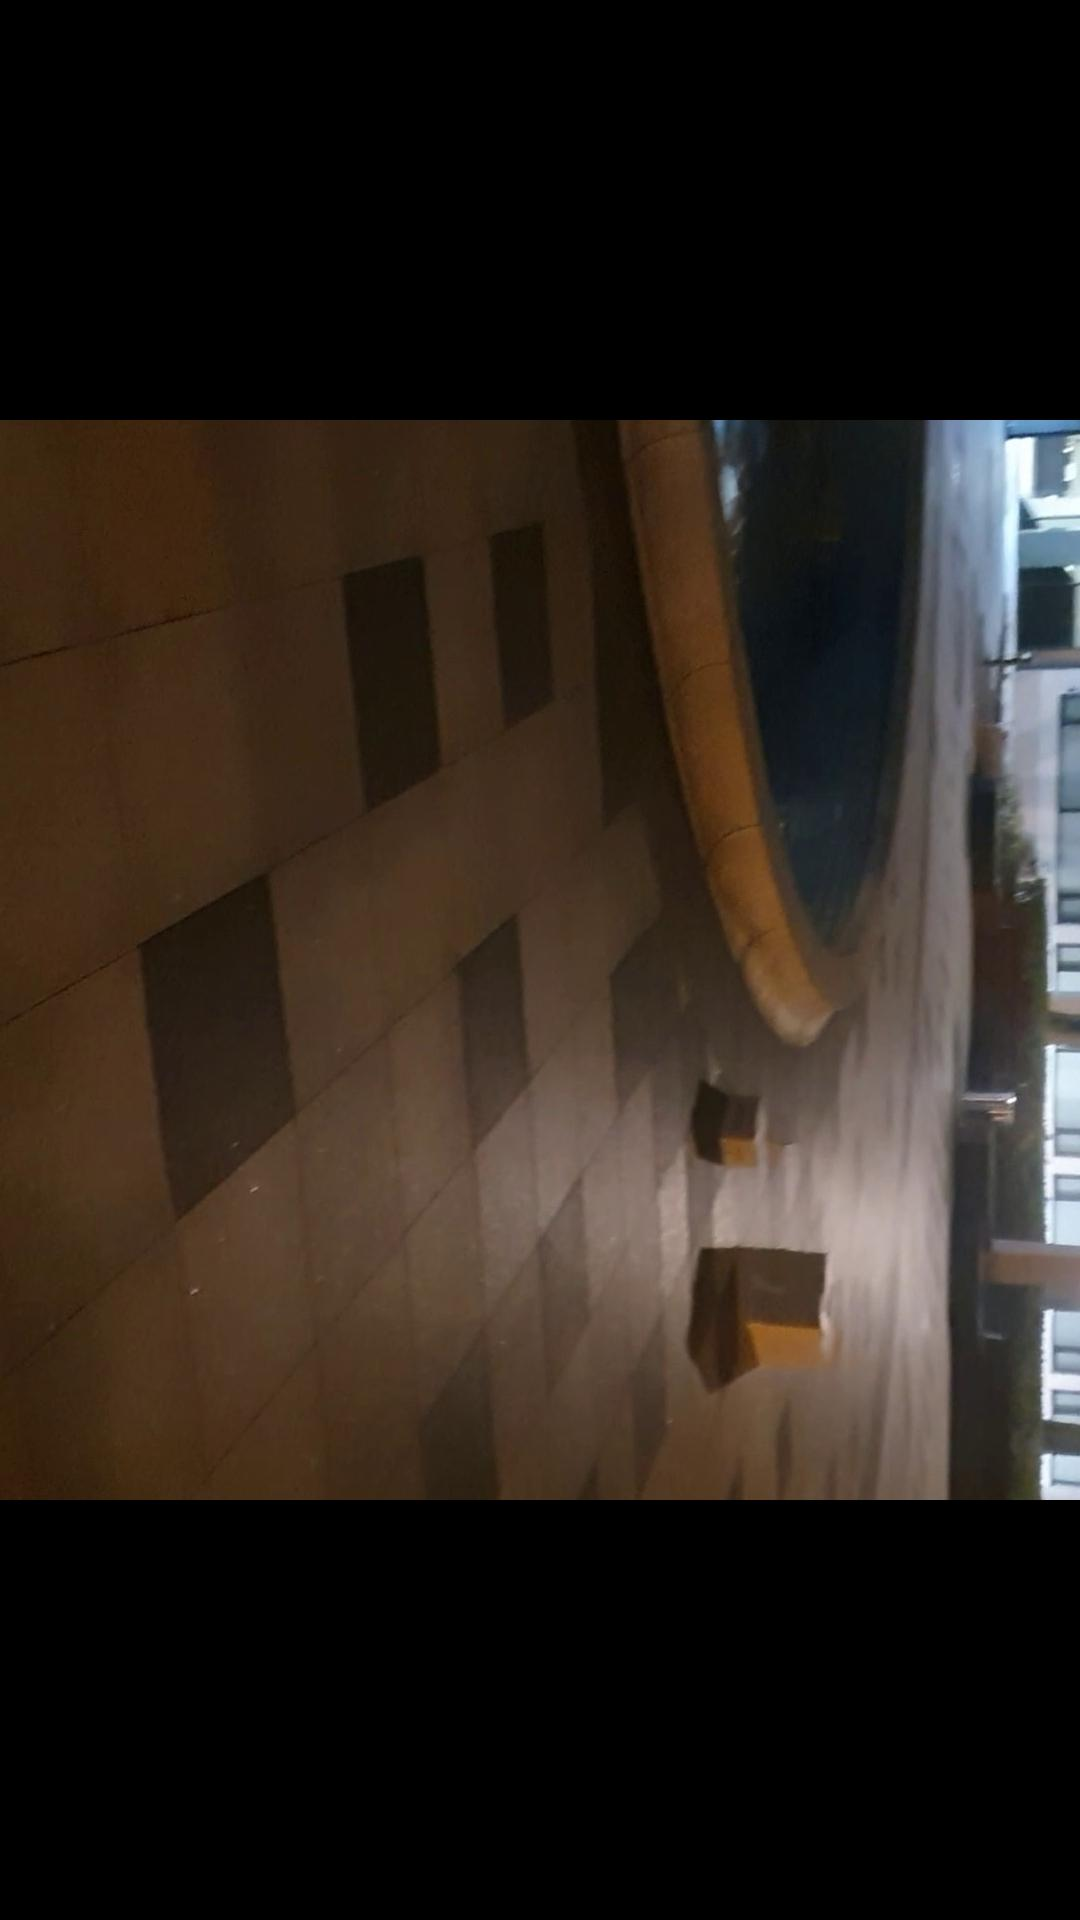Box: (715, 1233, 860, 1377), (700, 1081, 781, 1175)
